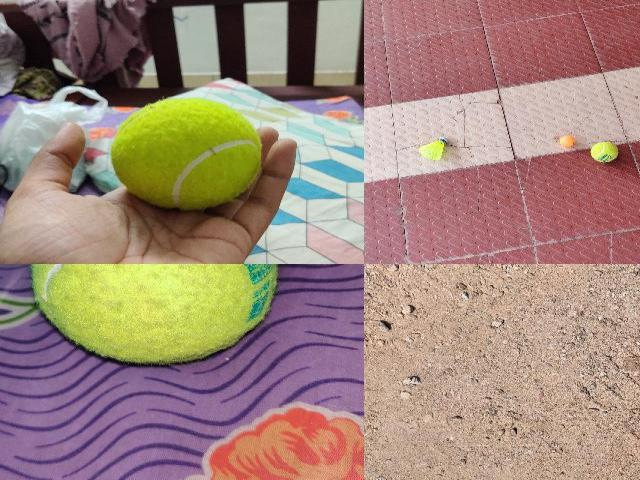tennis-ball: (30, 264, 281, 365), (111, 98, 261, 210), (590, 141, 618, 162)
